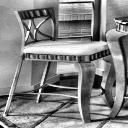chair_success: (3, 5, 118, 126)
